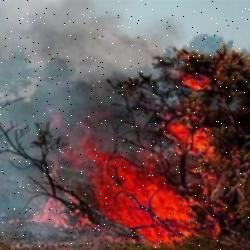fire: (22, 73, 214, 250)
